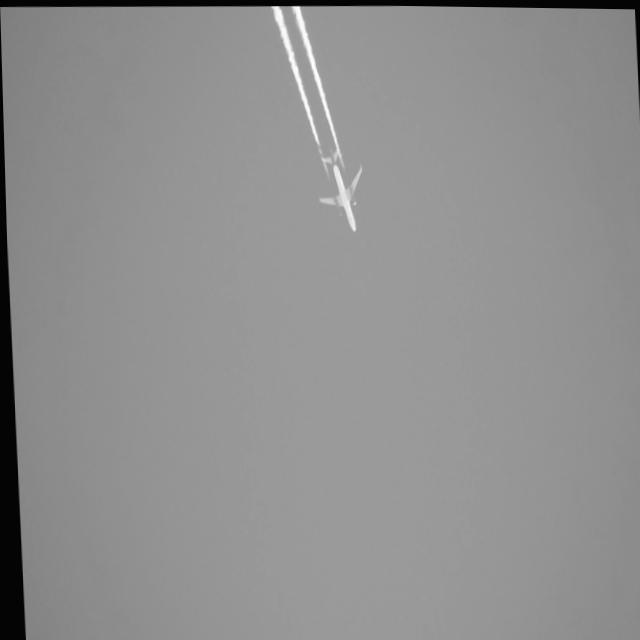aeroplane: (308, 144, 373, 236)
